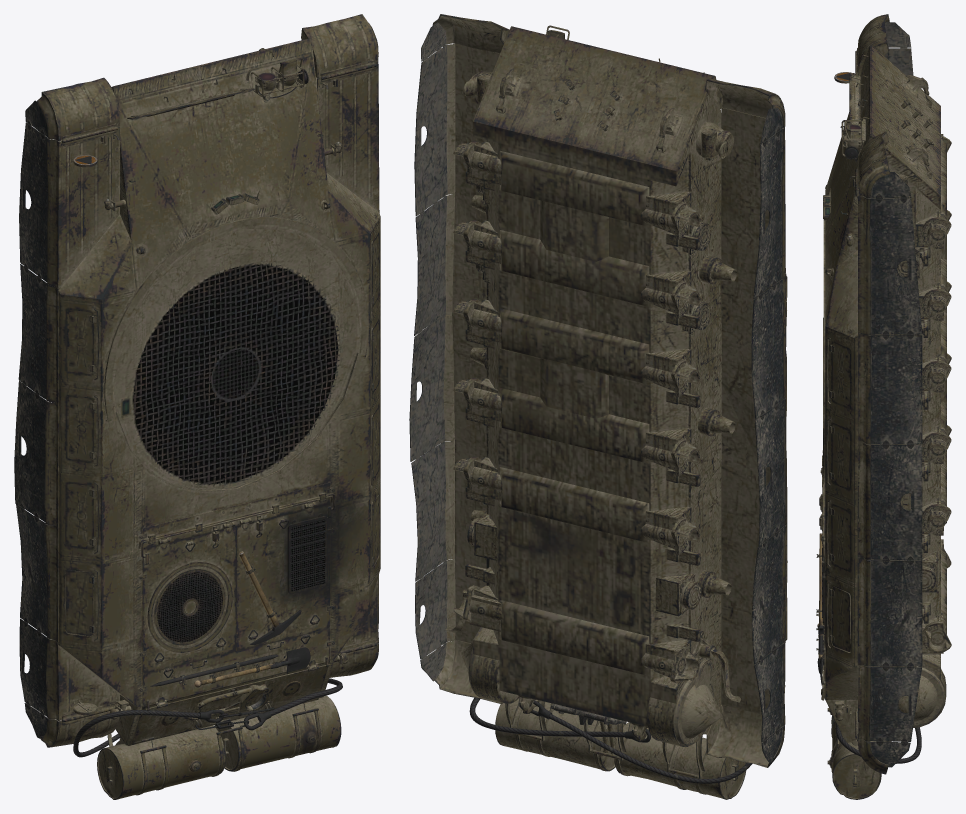
Rendered from Hull.glb.
The picture shows the model from 3 angles, left to right: view 1: azimuth 30°, elevation 25°; view 2: azimuth 150°, elevation 25°; view 3: azimuth 270°, elevation 25°; orthographic projection. The views are drawn at different scales.
Visible parts, largest first — view 1: set_0_group_0; view 2: set_0_group_0; view 3: set_0_group_0.
Boxes of the visible parts, <box> form: set_0_group_0: <box>14,14,380,799</box>; set_0_group_0: <box>409,14,787,799</box>; set_0_group_0: <box>816,14,951,799</box>.
Size of the model in its own units: 3.33 by 6.63 by 1.22.
1 material, 1 textured.
